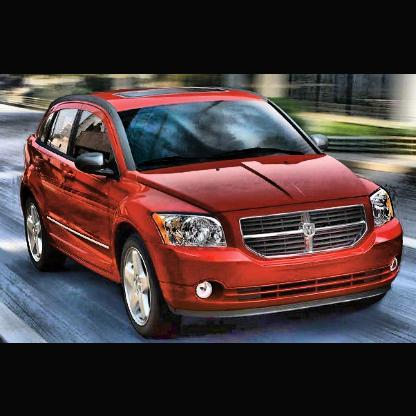Dodge Caliber Wagon 2012: (21, 89, 403, 338)
